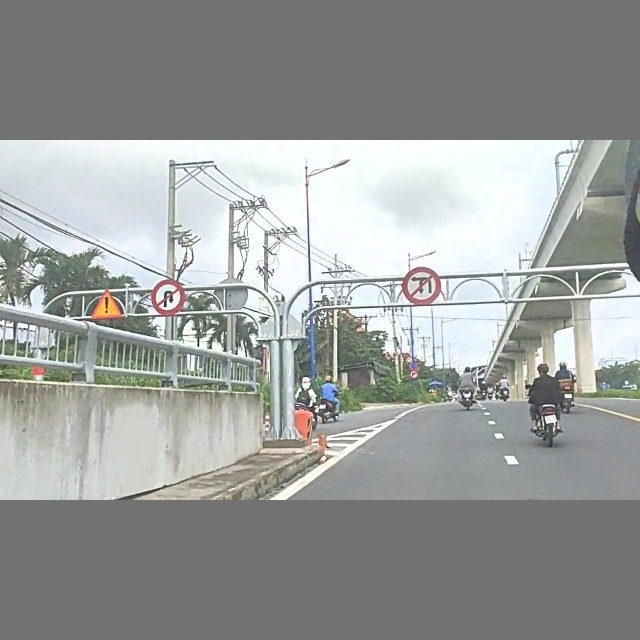P.123a: (409, 371, 419, 379)
P.124a*: (151, 279, 184, 315)
P.124d: (402, 267, 441, 306)
P.130: (407, 361, 418, 370)
W.233: (89, 288, 121, 319)
